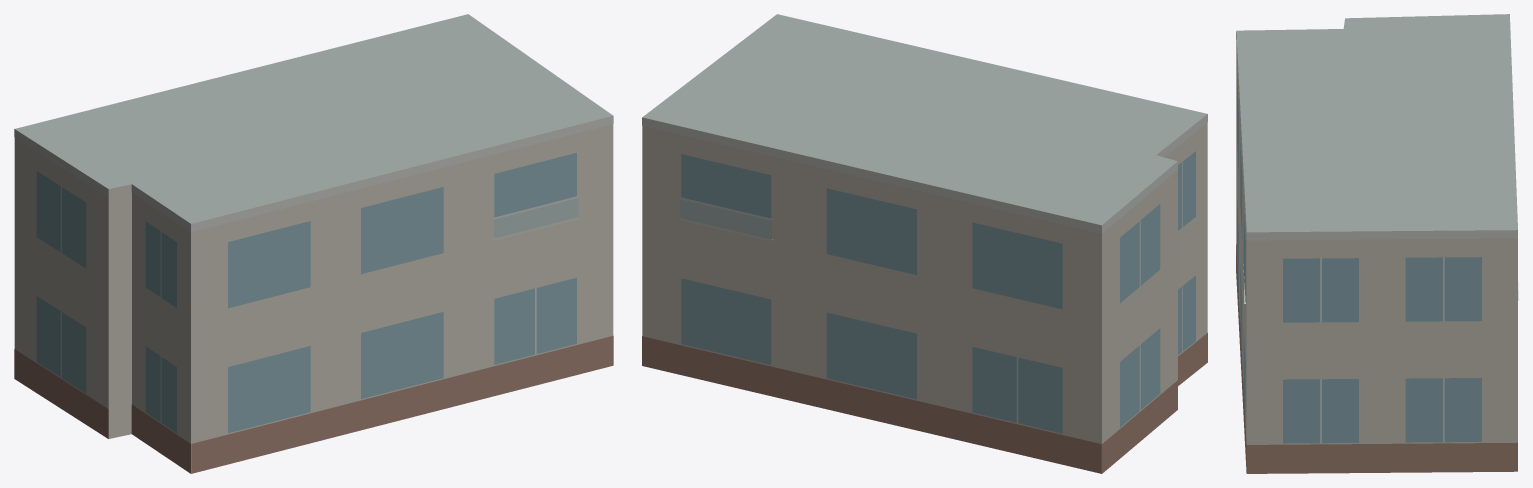
The model's file is survey-upis-32495587.glb.
3 renders of one model, left to right at view 1: azimuth 30°, elevation 25°; view 2: azimuth 150°, elevation 25°; view 3: azimuth 270°, elevation 25°, orthographic. The views are drawn at different scales.
Visible parts, largest first — view 1: survey-upis-32495587.tmp; view 2: survey-upis-32495587.tmp; view 3: survey-upis-32495587.tmp.
Boxes of the visible parts, box(x1,y1,x2,y2) form: survey-upis-32495587.tmp: box(14, 14, 613, 473); survey-upis-32495587.tmp: box(642, 14, 1207, 473); survey-upis-32495587.tmp: box(1236, 14, 1518, 473).
Bounding box in the file's own units: 14.16 × 7.3 × 7.75.
